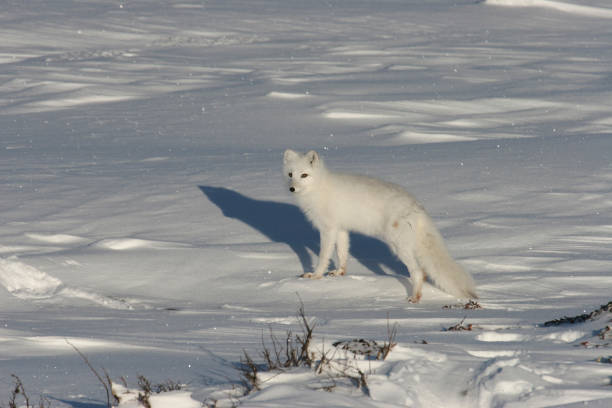arcticfox: (280, 154, 321, 206)
